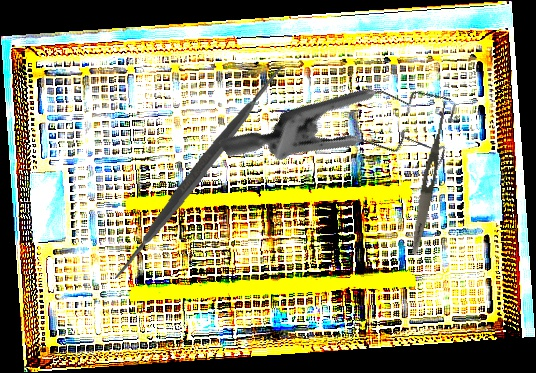Dressing Forceps: (408, 99, 451, 256)
Spatula Surgical: (90, 64, 309, 280)
Speculum: (218, 14, 480, 266)
